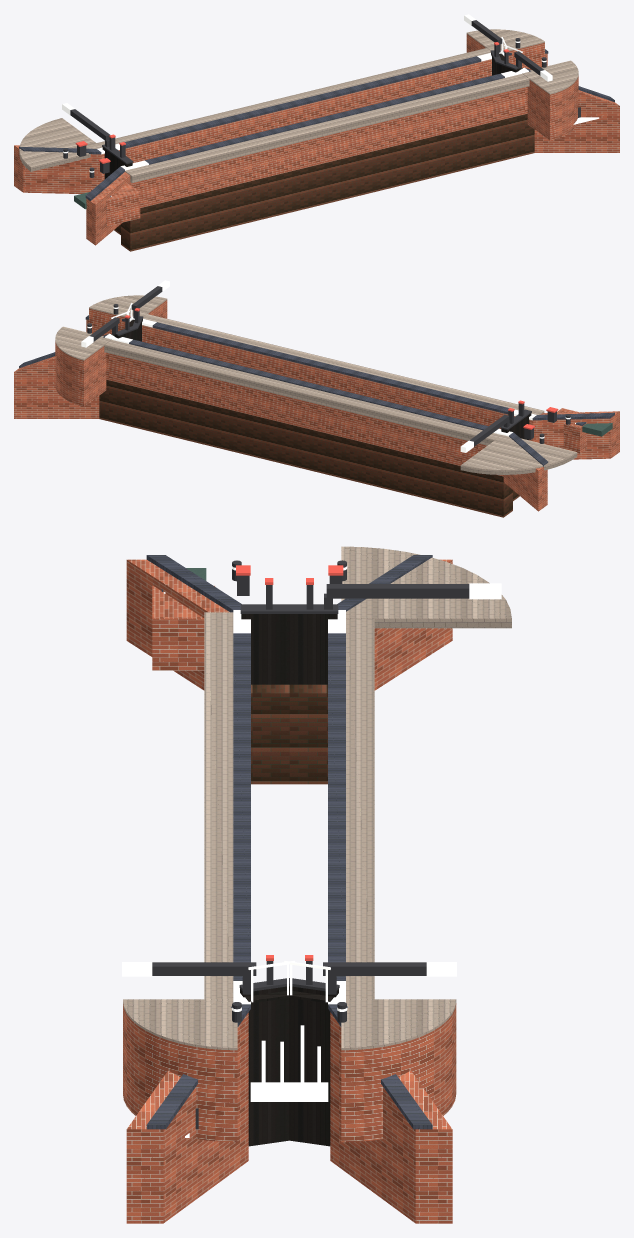
File: lock-29.glb
3 views of the same model, one above another, from view 1: azimuth 30°, elevation 25°; view 2: azimuth 150°, elevation 25°; view 3: azimuth 270°, elevation 25° (orthographic). The views are drawn at different scales.
Parts seen in each view (by area): view 1: Chamber, ChamberWet, Edge, Coping.001, TopGateCap, Coping, TopGate; view 2: Chamber, ChamberWet, Edge, Coping.001, TopGateCap, Coping, TopGate; view 3: Chamber, Edge, Coping.001, TopGate, TopGateCap, ChamberWet, Coping, Leak.
Part boxes in pixels (x1=…): Chamber: x1=14, y1=34, x2=619, y2=245; ChamberWet: x1=114, y1=113, x2=534, y2=251; Edge: x1=19, y1=29, x2=578, y2=183; Coping.001: x1=19, y1=49, x2=614, y2=200; TopGateCap: x1=63, y1=20, x2=580, y2=177; Coping: x1=62, y1=14, x2=552, y2=172; TopGate: x1=102, y1=53, x2=522, y2=179; Chamber: x1=14, y1=300, x2=619, y2=511; ChamberWet: x1=99, y1=379, x2=519, y2=517; Edge: x1=55, y1=295, x2=577, y2=474; Coping.001: x1=19, y1=315, x2=614, y2=466; TopGateCap: x1=87, y1=286, x2=570, y2=446; Coping: x1=81, y1=280, x2=570, y2=452; TopGate: x1=111, y1=319, x2=531, y2=440; Chamber: x1=123, y1=559, x2=456, y2=1223; Edge: x1=123, y1=546, x2=511, y2=1050; Coping.001: x1=146, y1=555, x2=432, y2=1129; TopGate: x1=240, y1=614, x2=338, y2=1146; TopGateCap: x1=152, y1=560, x2=469, y2=1129; ChamberWet: x1=251, y1=684, x2=327, y2=784; Coping: x1=122, y1=566, x2=501, y2=1011; Leak: x1=163, y1=592, x2=328, y2=1137.
Bounding box in the file's own units: 33.37 × 5.74 × 10.52.
11 materials, 8 textured.
